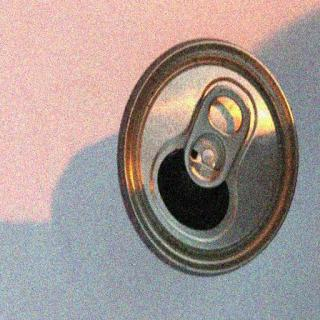METAL: (116, 38, 299, 278)
